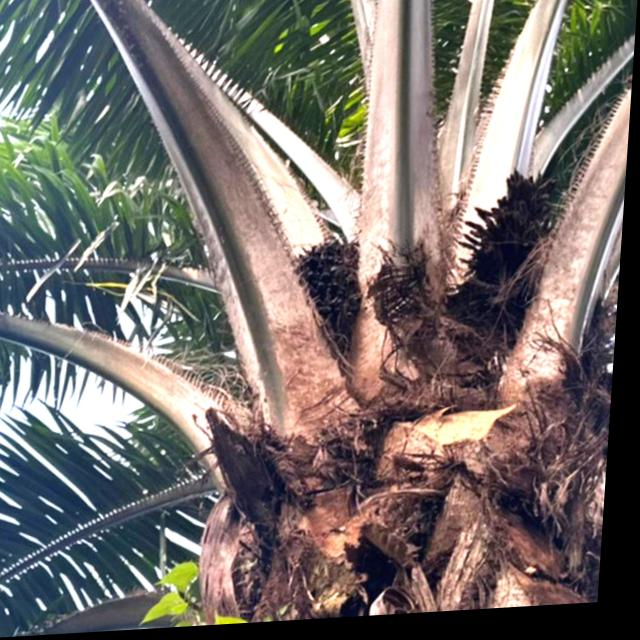unripe: (291, 227, 375, 345)
